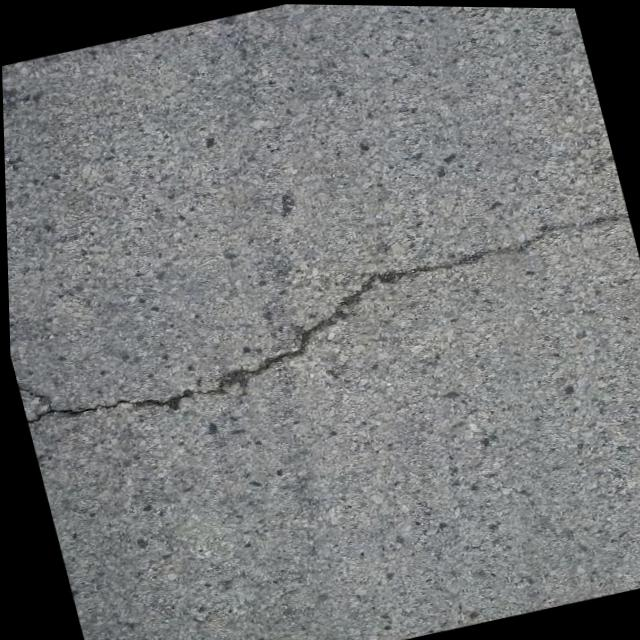Crack: (4, 193, 640, 450)
